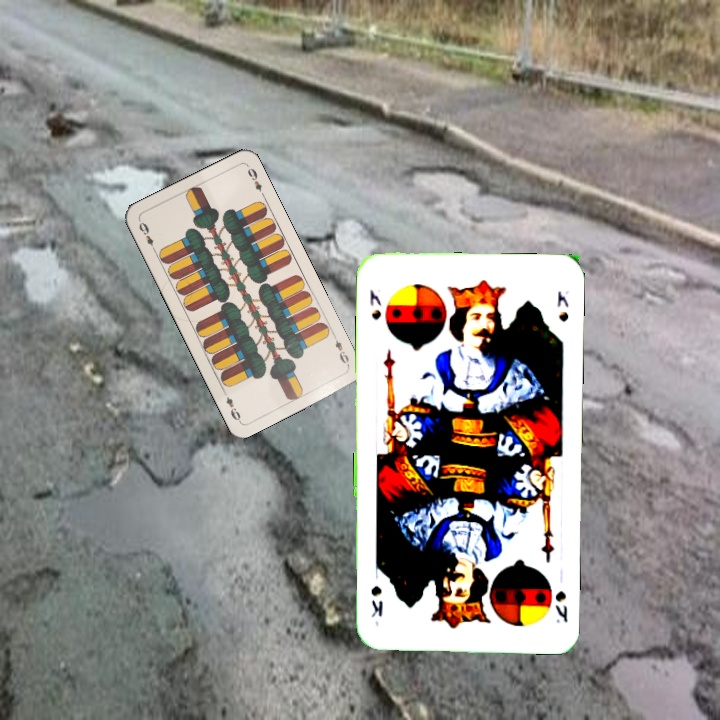E9: (329, 331, 352, 369), (135, 218, 158, 255)
SK: (551, 587, 570, 626), (366, 285, 384, 322)
